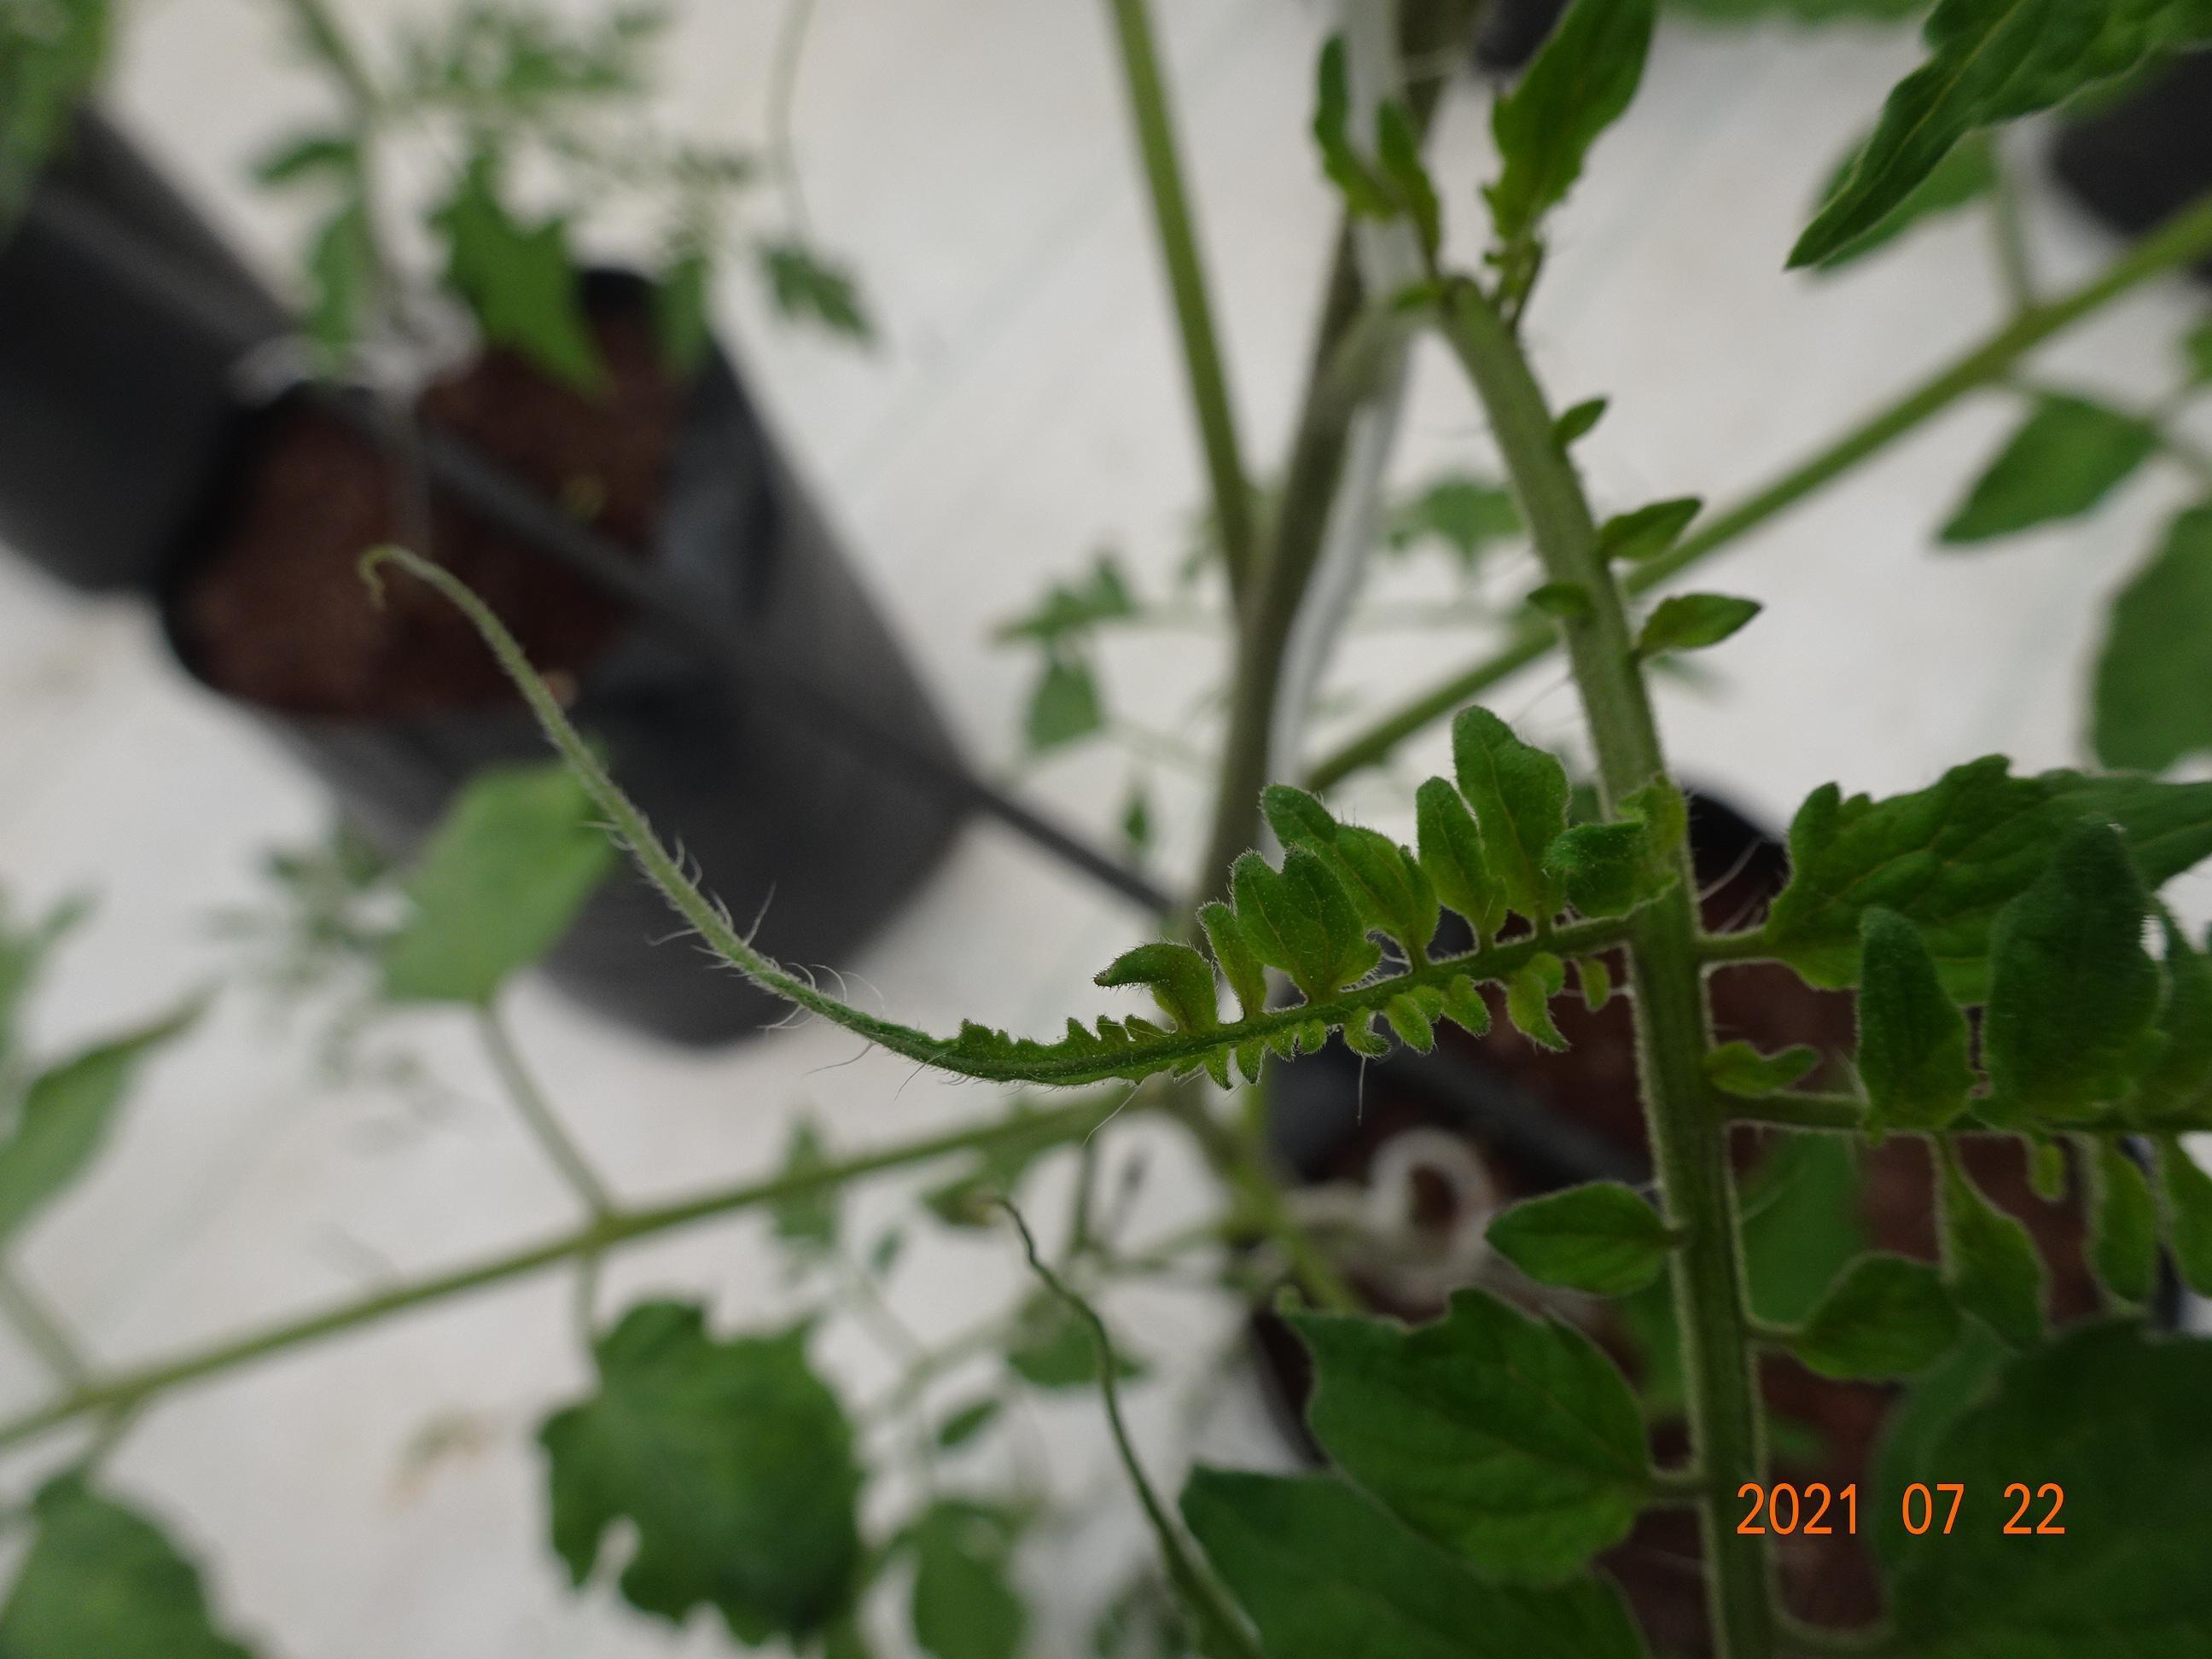Hoja: (1235, 849, 1383, 1002)
Hoja rugoso: (1292, 1291, 1651, 1581), (1451, 709, 1568, 929)
Pedunculo rugoso: (1482, 343, 1757, 1497)
